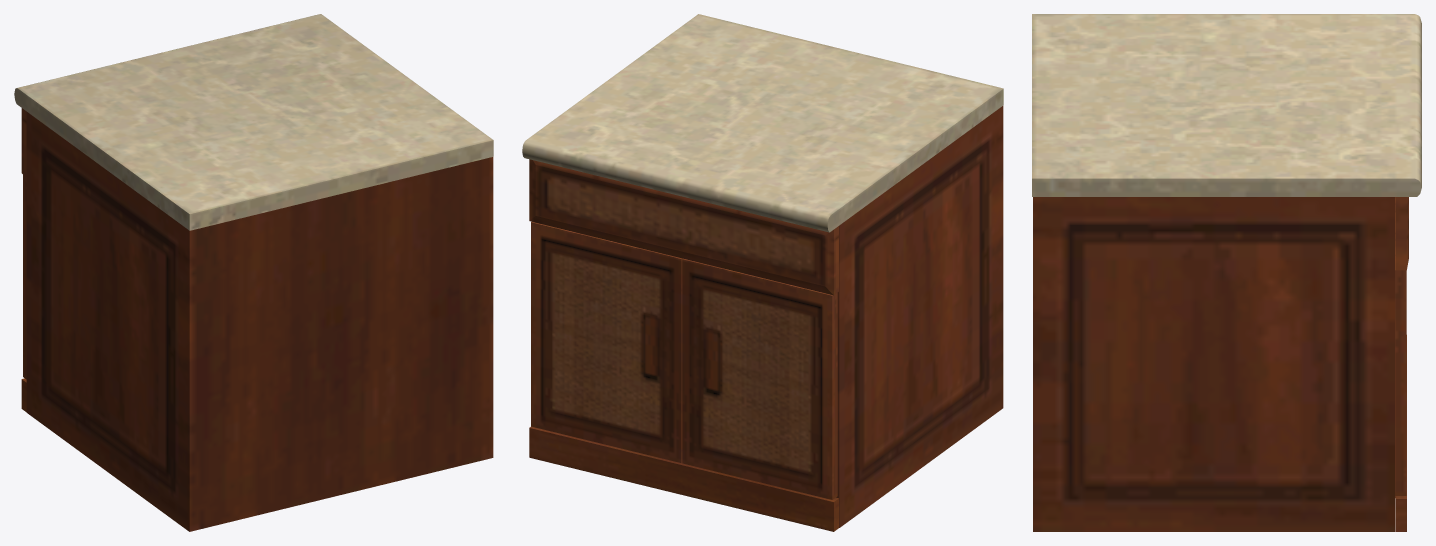
File: furni_0200486.FBX
3 renders of one model, left to right at view 1: azimuth 30°, elevation 25°; view 2: azimuth 150°, elevation 25°; view 3: azimuth 270°, elevation 25°, orthographic. The views are drawn at different scales.
Visible parts, largest first — view 1: furni_0200486; view 2: furni_0200486; view 3: furni_0200486.
Boxes of the visible parts, box(x1,y1,x2,y2) form: furni_0200486: box(14, 14, 493, 531); furni_0200486: box(522, 14, 1003, 531); furni_0200486: box(1032, 14, 1421, 531).
Bounding box in the file's own units: 80 × 80 × 80.
1 material, 1 textured.
